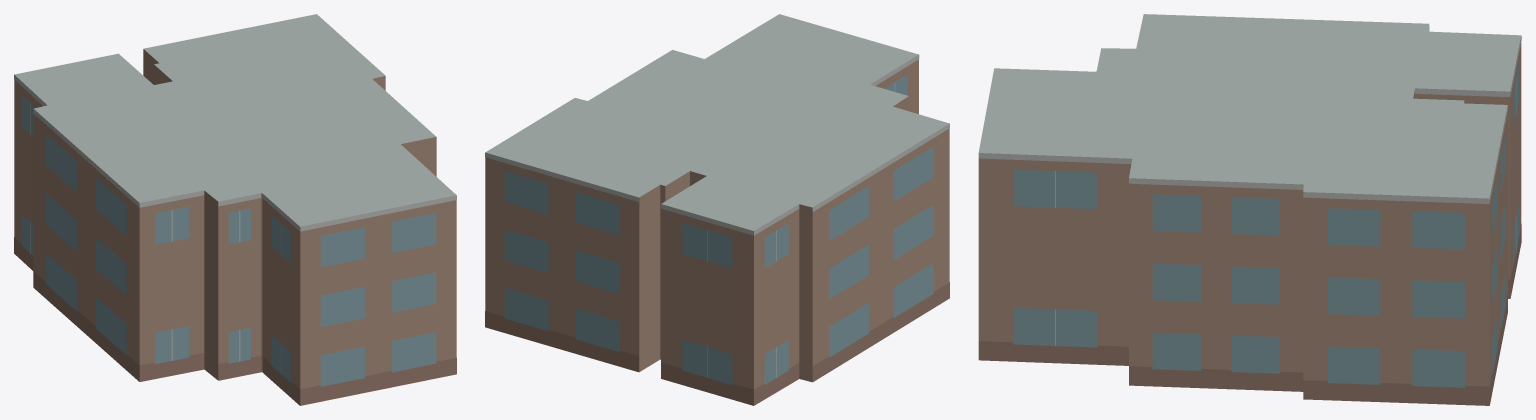
The model's file is survey-upis-32540316.glb.
3 renders of one model, left to right at view 1: azimuth 30°, elevation 25°; view 2: azimuth 150°, elevation 25°; view 3: azimuth 270°, elevation 25°, orthographic. The views are drawn at different scales.
Visible parts, largest first — view 1: survey-upis-32540316.tmp; view 2: survey-upis-32540316.tmp; view 3: survey-upis-32540316.tmp.
Part boxes in pixels (x1=…): survey-upis-32540316.tmp: x1=14, y1=14, x2=456, y2=405; survey-upis-32540316.tmp: x1=485, y1=14, x2=949, y2=405; survey-upis-32540316.tmp: x1=978, y1=14, x2=1521, y2=405.
Size of the model in its own units: 17.48 by 9.15 by 21.72.
